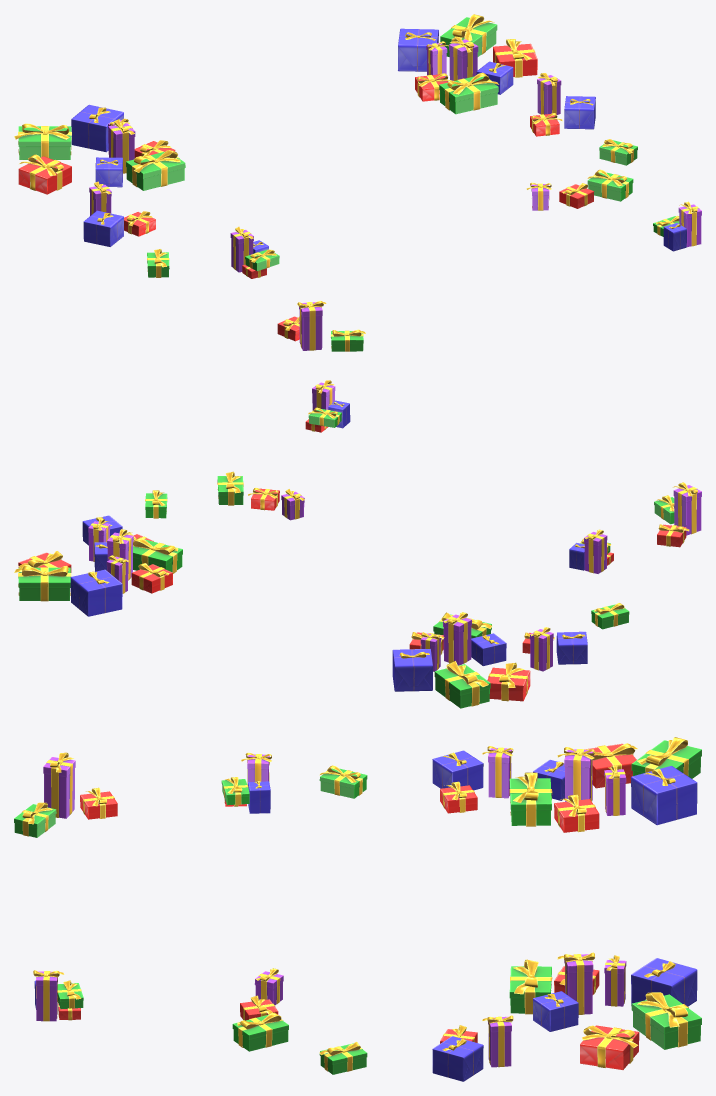
Rendered from obj_gift.gltf.
3 renders of one model, top to bottom at view 1: azimuth 30°, elevation 25°; view 2: azimuth 150°, elevation 25°; view 3: azimuth 270°, elevation 25°, orthographic. The views are drawn at different scales.
Parts seen in each view (by area): view 1: obj_gift; view 2: obj_gift; view 3: obj_gift.
Part boxes in pixels (x1=…): obj_gift: x1=14, y1=14, x2=701, y2=351; obj_gift: x1=14, y1=380, x2=701, y2=708; obj_gift: x1=14, y1=737, x2=701, y2=1081.
Size of what is drawn, in the model's own units: 14.97 by 1.74 by 14.16.
Materials: 1 (1 with a texture image).
